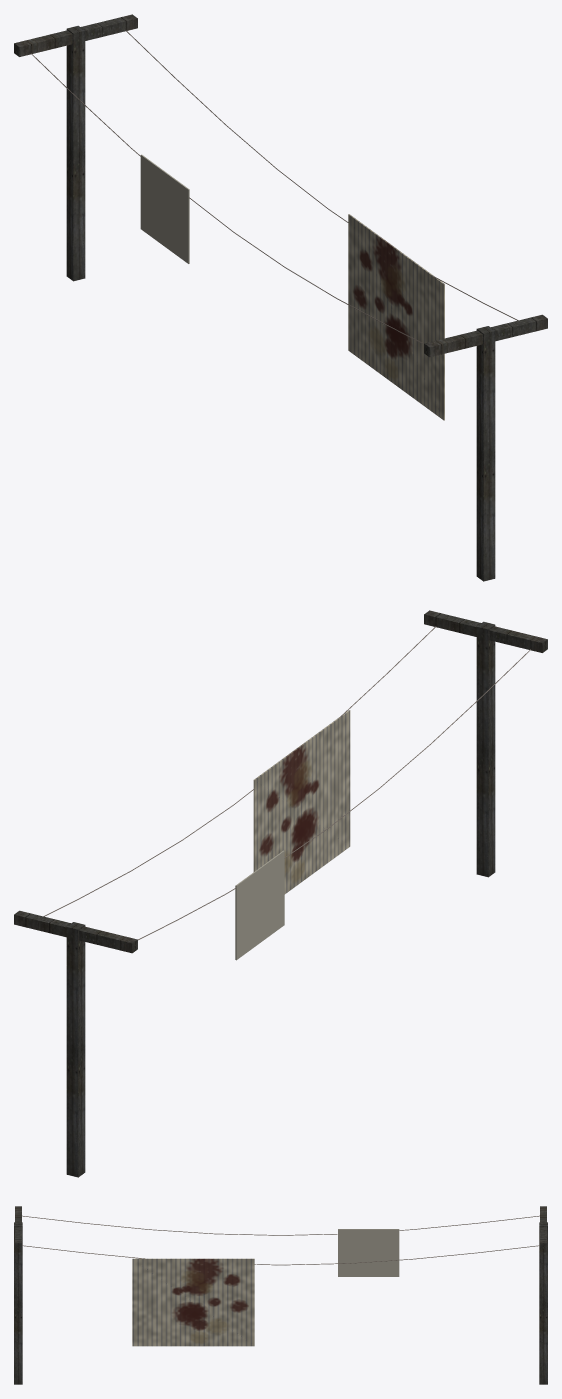
File: clothesline.glb
The picture shows the model from 3 angles, top to bottom: view 1: azimuth 30°, elevation 25°; view 2: azimuth 150°, elevation 25°; view 3: azimuth 270°, elevation 25°; orthographic projection. The views are drawn at different scales.
Parts seen in each view (by area): view 1: clothesline; view 2: clothesline; view 3: clothesline.
Boxes of the visible parts, x1=… form: clothesline: x1=14, y1=14, x2=547, y2=581; clothesline: x1=14, y1=610, x2=547, y2=1177; clothesline: x1=14, y1=1206, x2=547, y2=1384.
Bounding box in the file's own units: 1 × 2 × 6.1.
4 materials, 2 textured.
